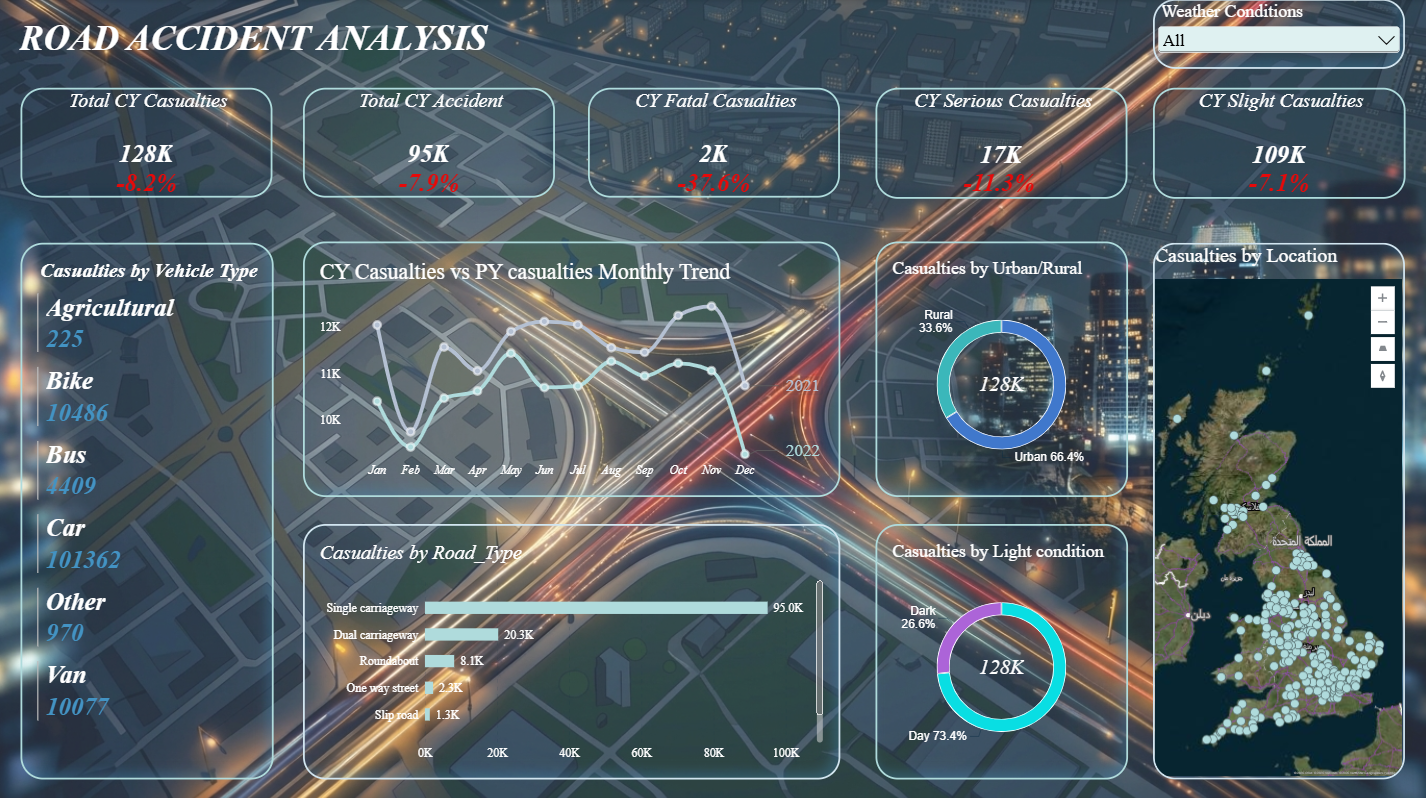

What the dashboard file says about the page in this screenshot:
{"tool":"powerbi","page":{"name":"Page 1","canvas":[1920,1080],"ordinal":0},"visuals":[{"type":"cardVisual","title":"Total CY Casualties","fields":{"Data":["Road Accident Data.CY Casualties"]},"box":[29.8,119.1,337.9,147.5],"z":0,"group":"g1"},{"type":"cardVisual","title":"Total CY Accident","fields":{"Data":["Road Accident Data.CY Accident Count"]},"box":[409.4,119.1,337.9,147.5],"z":0,"group":"g2"},{"type":"cardVisual","title":" CY Fatal Casualties","fields":{"Data":["Road Accident Data.CY Casualties"]},"box":[790.9,119.1,337.9,147.5],"z":0,"group":"g3"},{"type":"cardVisual","title":" CY Serious Casualties","fields":{"Data":["Road Accident Data.CY Casualties"]},"box":[1176,119.1,337.9,148.9],"z":0,"group":"g4"},{"type":"cardVisual","title":" CY Slight Casualties","fields":{"Data":["Road Accident Data.CY Casualties"]},"box":[1548.2,119.1,338.3,148.9],"z":0,"group":"g5"},{"type":"cardVisual","title":"Total CY Casualties","fields":{"Data":["Road Accident Data.YOY Casualties"]},"box":[121.9,224.2,153.6,57.2],"z":1,"group":"g1"},{"type":"group","id":"g1","title":"Group 1","box":[29.8,119.1,336.8,163.8],"z":2},{"type":"group","id":"g2","title":"Group 1","box":[409.4,119.1,336.8,163.8],"z":3},{"type":"group","id":"g3","title":"Group 1","box":[790.9,119.1,338.7,163.8],"z":4},{"type":"group","id":"g4","title":"Group 1","box":[1176,119.1,336.8,165.6],"z":5},{"type":"group","id":"g5","title":"Group 1","box":[1548.2,119.1,336.8,163.8],"z":6},{"type":"textbox","box":[28.9,24.5,649,68.9],"z":7},{"type":"multiRowCard","title":"Casualties by Vehicle Type","fields":{"Values":["Road Accident Data.Vehicle_Type (groups)","Road Accident Data.CY Casualties"]},"box":[29.3,326.5,339.3,719],"z":8},{"type":"areaChart","title":"CY Casualties vs PY casualties Monthly Trend","fields":{"Category":["Calendar.Month"],"Series":["Calendar.Date.Variation.Date Hierarchy.Year"],"Y":["Sum(Road Accident Data.Number_of_Casualties)"]},"box":[409.4,325.6,720.1,342.4],"z":9},{"type":"donutChart","title":" Casualties by Urban/Rural","fields":{"Category":["Road Accident Data.Urban_or_Rural_Area"],"Y":["Road Accident Data.CY Casualties"]},"box":[1176,325.6,338.7,342.4],"z":10},{"type":"donutChart","title":" Casualties by Light condition","fields":{"Category":["Road Accident Data.Light_Conditions (groups)"],"Y":["Road Accident Data.CY Casualties"]},"box":[1176,703.4,338.7,342.4],"z":11},{"type":"barChart","title":" Casualties by Road_Type","fields":{"Category":["Road Accident Data.Road_Type"],"Y":["Road Accident Data.CY Casualties"]},"box":[409.4,703.4,720.1,342.4],"z":12},{"type":"azureMap","title":"Casualties by Location","fields":{"Category":["Road Accident Data.Local_Authority_(District)"],"X":["Road Accident Data.Longitude"],"Y":["Road Accident Data.Latitude"]},"box":[1548,326.5,337.5,719],"z":13},{"type":"slicer","fields":{"Values":["Road Accident Data.Weather_Conditions (groups)"]},"box":[1548,0,337.5,93.5],"z":14},{"type":"cardVisual","title":"Total CY Casualties","fields":{"Data":["Road Accident Data.YOU Accident"]},"box":[501.5,224.2,153.6,57.2],"z":1000,"group":"g2"},{"type":"cardVisual","title":"Total CY Casualties","fields":{"Data":["Road Accident Data.YOY Casualties"]},"box":[883,224.2,153.6,57.2],"z":1000,"group":"g3"},{"type":"cardVisual","title":"Total CY Casualties","fields":{"Data":["Road Accident Data.YOY Casualties"]},"box":[1265.7,224.9,150.5,57.7],"z":1000,"group":"g4"},{"type":"cardVisual","title":"Total CY Casualties","fields":{"Data":["Road Accident Data.YOY Casualties"]},"box":[1640.5,225.2,153.8,57.7],"z":1000,"group":"g5"}]}

Visuals, with their boxes in screenshot pixels (x1, y1, x2, y2), scaled from the page's 1920x1080 canvas onto the 1426x798 screenshot:
"Total CY Casualties" cardVisual: <box>22,88,273,197</box>
"Total CY Accident" cardVisual: <box>304,88,555,197</box>
" CY Fatal Casualties" cardVisual: <box>587,88,838,197</box>
" CY Serious Casualties" cardVisual: <box>873,88,1124,198</box>
" CY Slight Casualties" cardVisual: <box>1150,88,1401,198</box>
"Total CY Casualties" cardVisual: <box>91,166,205,208</box>
"Group 1" group: <box>22,88,272,209</box>
"Group 1" group: <box>304,88,554,209</box>
"Group 1" group: <box>587,88,839,209</box>
"Group 1" group: <box>873,88,1124,210</box>
"Group 1" group: <box>1150,88,1400,209</box>
textbox: <box>21,18,503,69</box>
"Casualties by Vehicle Type" multiRowCard: <box>22,241,274,773</box>
"CY Casualties vs PY casualties Monthly Trend" areaChart: <box>304,241,839,494</box>
" Casualties by Urban/Rural" donutChart: <box>873,241,1125,494</box>
" Casualties by Light condition" donutChart: <box>873,520,1125,773</box>
" Casualties by Road_Type" barChart: <box>304,520,839,773</box>
"Casualties by Location" azureMap: <box>1150,241,1400,773</box>
slicer - Road Accident Data.Weather_Conditions (groups): <box>1150,0,1400,69</box>
"Total CY Casualties" cardVisual: <box>372,166,487,208</box>
"Total CY Casualties" cardVisual: <box>656,166,770,208</box>
"Total CY Casualties" cardVisual: <box>940,166,1052,209</box>
"Total CY Casualties" cardVisual: <box>1218,166,1333,209</box>
